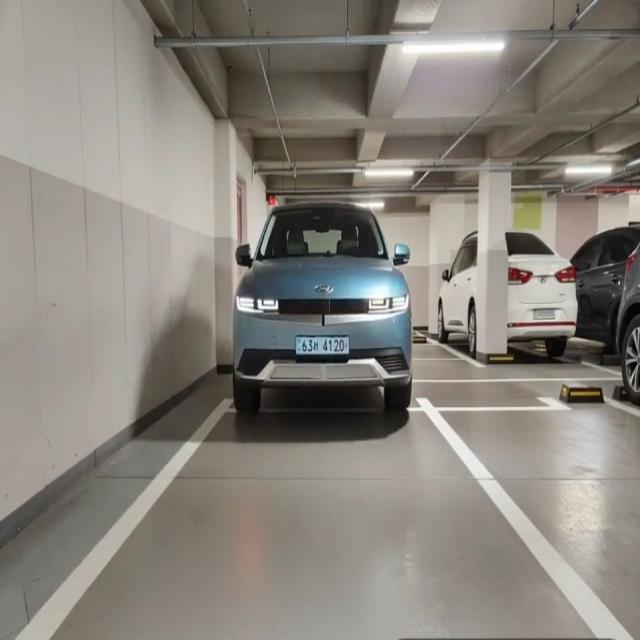car: (296, 336, 350, 356)
carev: (296, 337, 302, 356), (343, 339, 349, 354)
